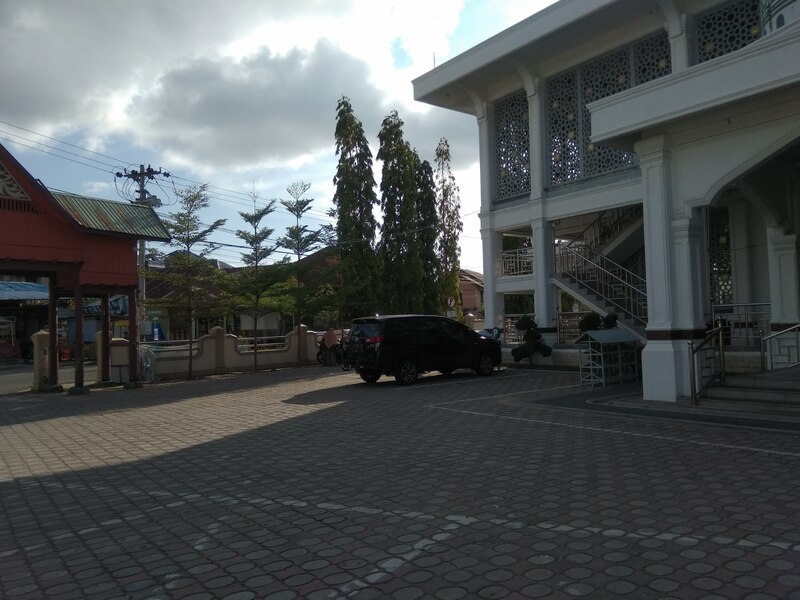car: (342, 314, 506, 388)
